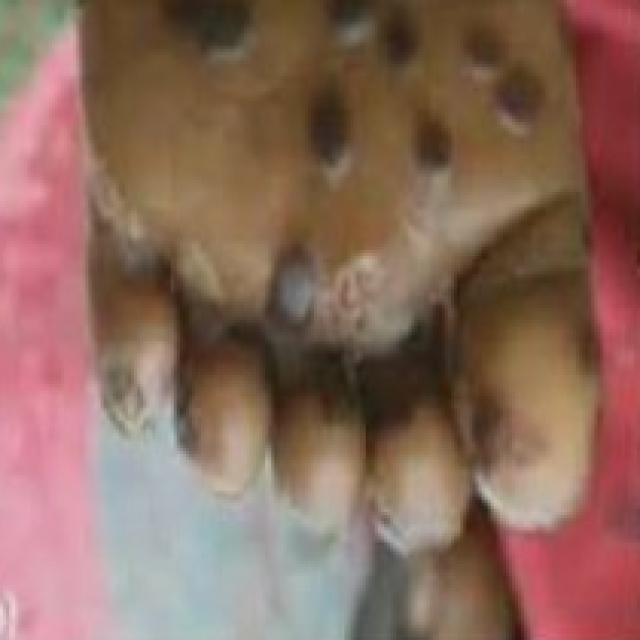Eczema: (86, 0, 553, 477)
